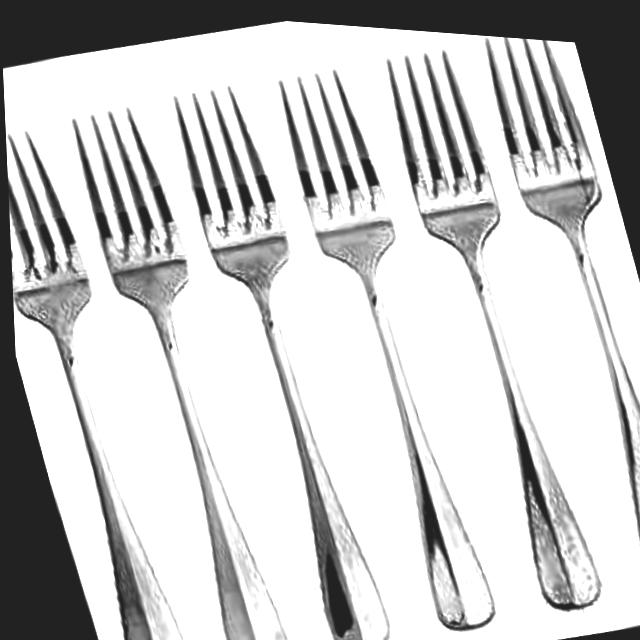Fork: (279, 68, 496, 630), (385, 45, 600, 609), (175, 86, 390, 639), (73, 108, 287, 639), (6, 128, 183, 639), (483, 36, 639, 532)
